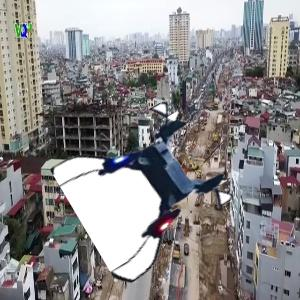drone: (73, 110, 227, 264)
